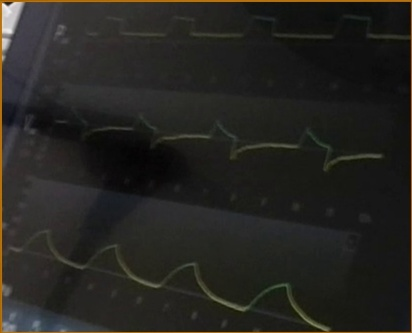Normal Flow: (55, 99, 383, 174)
Normal Volume: (11, 225, 332, 329)
